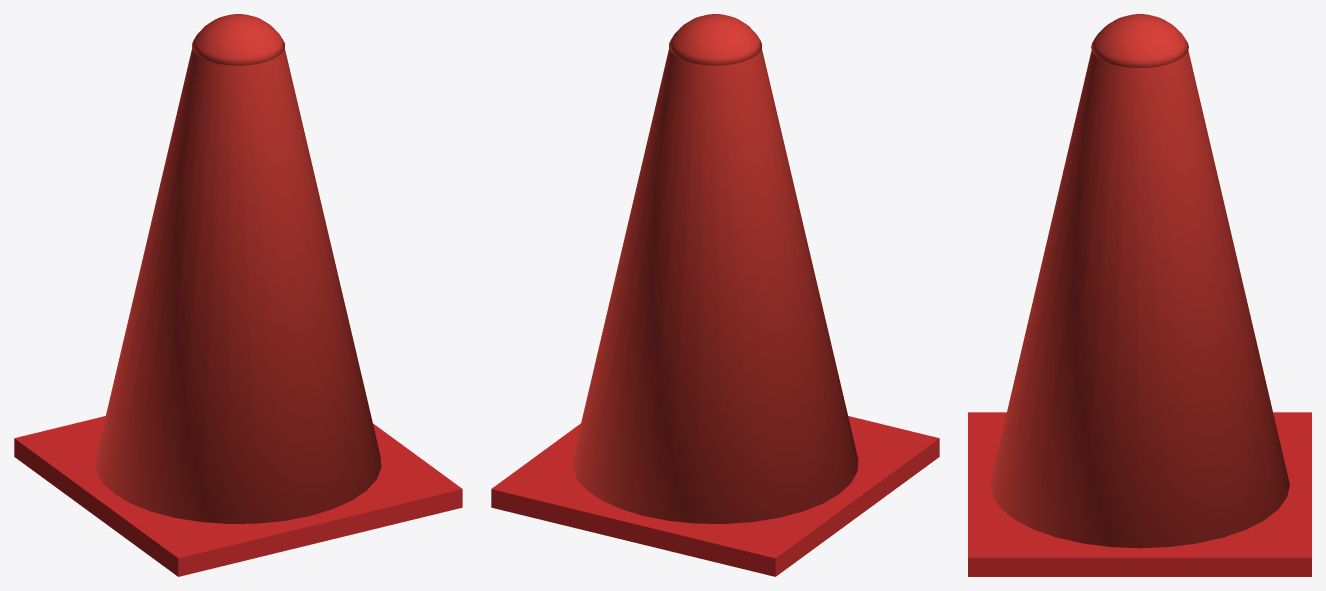
File: Corn.fbx
3 views of the same model, side by side, from view 1: azimuth 30°, elevation 25°; view 2: azimuth 150°, elevation 25°; view 3: azimuth 270°, elevation 25° (orthographic). The views are drawn at different scales.
Parts seen in each view (by area): view 1: Cone, Cube; view 2: Cone, Cube; view 3: Cone, Cube.
Boxes of the visible parts, bbox=[...] form: Cone: bbox=[95, 14, 381, 523]; Cube: bbox=[14, 416, 462, 576]; Cone: bbox=[572, 14, 858, 523]; Cube: bbox=[491, 416, 939, 576]; Cone: bbox=[990, 14, 1289, 548]; Cube: bbox=[968, 412, 1311, 576].
Bounding box in the file's own units: 160 × 249 × 160.
